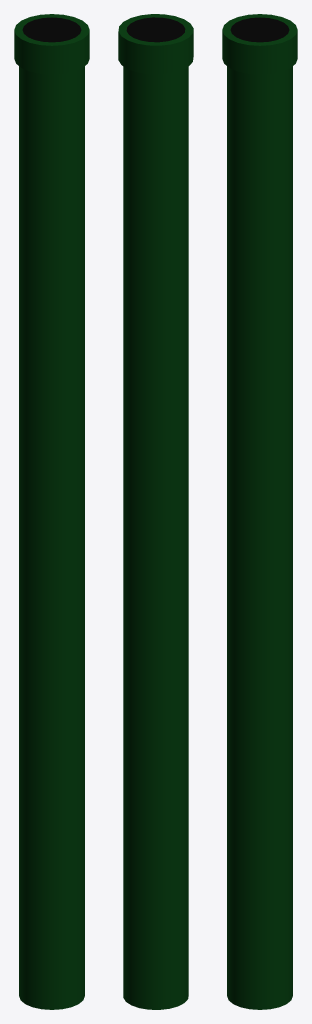
File: Pipes.fbx
The picture shows the model from 3 angles, left to right: view 1: azimuth 90°, elevation 25°; view 2: azimuth 150°, elevation 25°; view 3: azimuth 270°, elevation 25°; orthographic projection.
Visible parts, largest first — view 1: Pipe_DarkInsides; view 2: Pipe_DarkInsides; view 3: Pipe_DarkInsides.
Part boxes in pixels (x1,y1,x2,y2): Pipe_DarkInsides: (14, 14, 89, 1009); Pipe_DarkInsides: (118, 14, 193, 1009); Pipe_DarkInsides: (222, 14, 297, 1009).
Size of the model in its own units: 1.4 by 1.4 by 19.71.
1 material, 1 textured.
